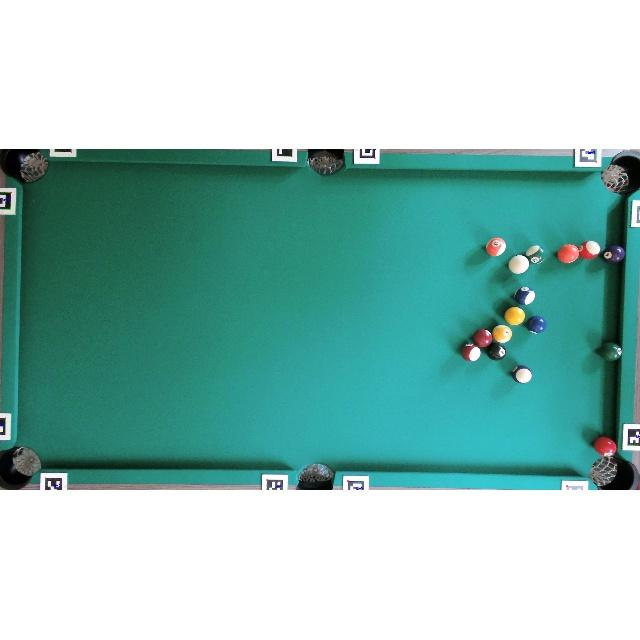cue ball: (508, 254, 530, 274)
other: (593, 436, 617, 456), (602, 244, 626, 264), (599, 342, 622, 362), (525, 244, 546, 265), (578, 240, 600, 260), (504, 306, 526, 326), (558, 244, 580, 264), (514, 286, 535, 306), (526, 315, 547, 334), (486, 237, 506, 256), (512, 365, 532, 384), (492, 325, 513, 343), (461, 344, 481, 362), (473, 329, 493, 347), (488, 342, 507, 360)
